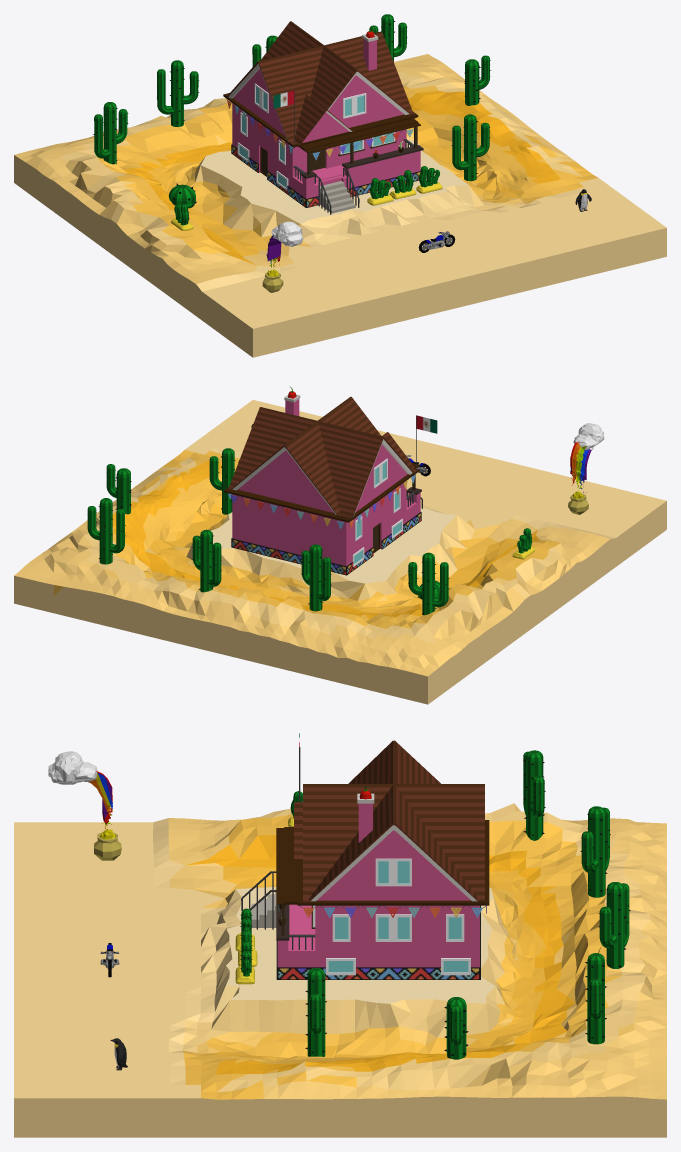
3 renders of one model, top to bottom at view 1: azimuth 30°, elevation 25°; view 2: azimuth 150°, elevation 25°; view 3: azimuth 270°, elevation 25°, orthographic. The views are drawn at different scales.
Visible parts, largest first — view 1: Cube.001, Cube.1005, Cylinder.044, Cylinder.037, Cylinder.045, OBJRANDOM_RAINBOW, Cylinder.038, Cylinder.042, Cylinder.039, Cylinder.041; view 2: Cube.001, Cube.1005, Cylinder.042, OBJRANDOM_RAINBOW, Cylinder.045, Cylinder.044, Cylinder.043, Cylinder.037, Cylinder.038; view 3: Cube.001, Cube.1005, OBJRANDOM_RAINBOW, Cylinder.043, Cylinder.044, Cylinder.045, Cylinder.037, Cylinder.042, Cylinder.038, Cylinder.041.
Part boxes in pixels (box(x1,y1,x2,y2)): Cube.001: box(14, 54, 666, 357); Cube.1005: box(223, 21, 423, 214); Cylinder.044: box(157, 60, 199, 126); Cylinder.037: box(451, 114, 490, 181); Cylinder.045: box(93, 102, 128, 164); OBJRANDOM_RAINBOW: box(262, 221, 303, 292); Cylinder.038: box(464, 55, 490, 105); Cylinder.042: box(369, 14, 407, 61); Cylinder.039: box(367, 178, 393, 205); Cylinder.041: box(416, 166, 442, 193); Cube.001: box(14, 400, 666, 704); Cube.1005: box(224, 386, 437, 575); Cylinder.042: box(87, 498, 125, 564); OBJRANDOM_RAINBOW: box(568, 423, 604, 514); Cylinder.045: box(408, 552, 449, 615); Cylinder.044: box(301, 544, 331, 611); Cylinder.043: box(192, 529, 221, 592); Cylinder.037: box(209, 448, 239, 514); Cylinder.038: box(106, 464, 131, 514); Cube.001: box(14, 803, 666, 1137); Cube.1005: box(241, 733, 489, 979); OBJRANDOM_RAINBOW: box(48, 751, 121, 860); Cylinder.043: box(598, 882, 630, 968); Cylinder.044: box(580, 806, 610, 897); Cylinder.045: box(523, 750, 545, 840); Cylinder.037: box(305, 968, 326, 1056); Cylinder.042: box(585, 953, 606, 1044); Cylinder.038: box(444, 997, 468, 1059); Cylinder.041: box(235, 941, 254, 984).
Size of the model in its own units: 4002 by 1721 by 4001.
68 materials, 4 textured.
